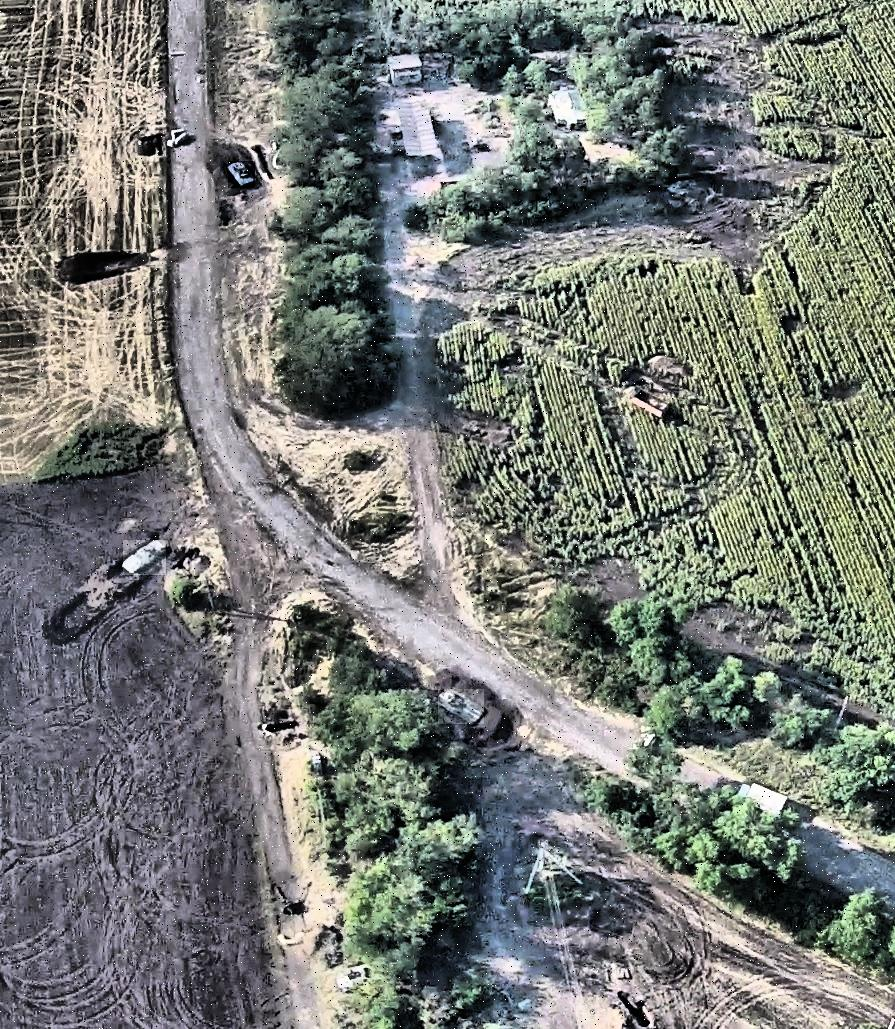military-vehicle: (438, 690, 484, 725), (123, 541, 166, 576), (228, 161, 255, 188)
